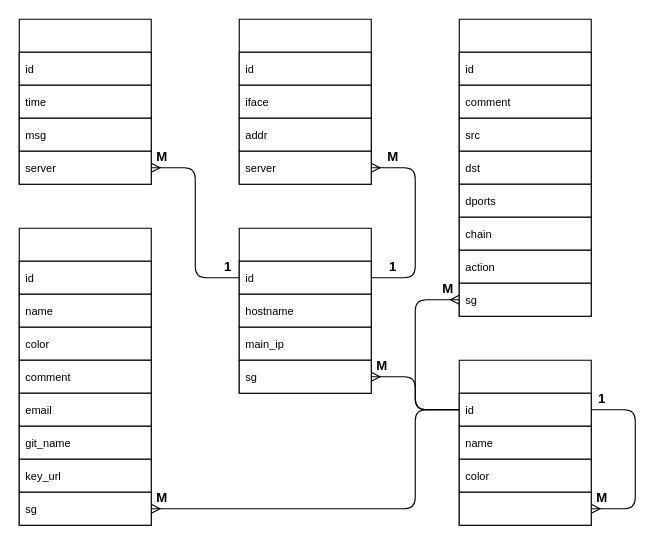
The diagram is 663 pixels wide and 545 high, and some of its shapes have lost their labels. Here are the shapes that lost their labels. From the top down, the box of each, then its label:
(18, 18, 151, 184): journal
(238, 18, 371, 184): addrs
(458, 18, 591, 316): rules
(238, 227, 371, 393): servers
(18, 227, 151, 525): users
(458, 359, 591, 525): groups
(458, 491, 591, 525): parent
